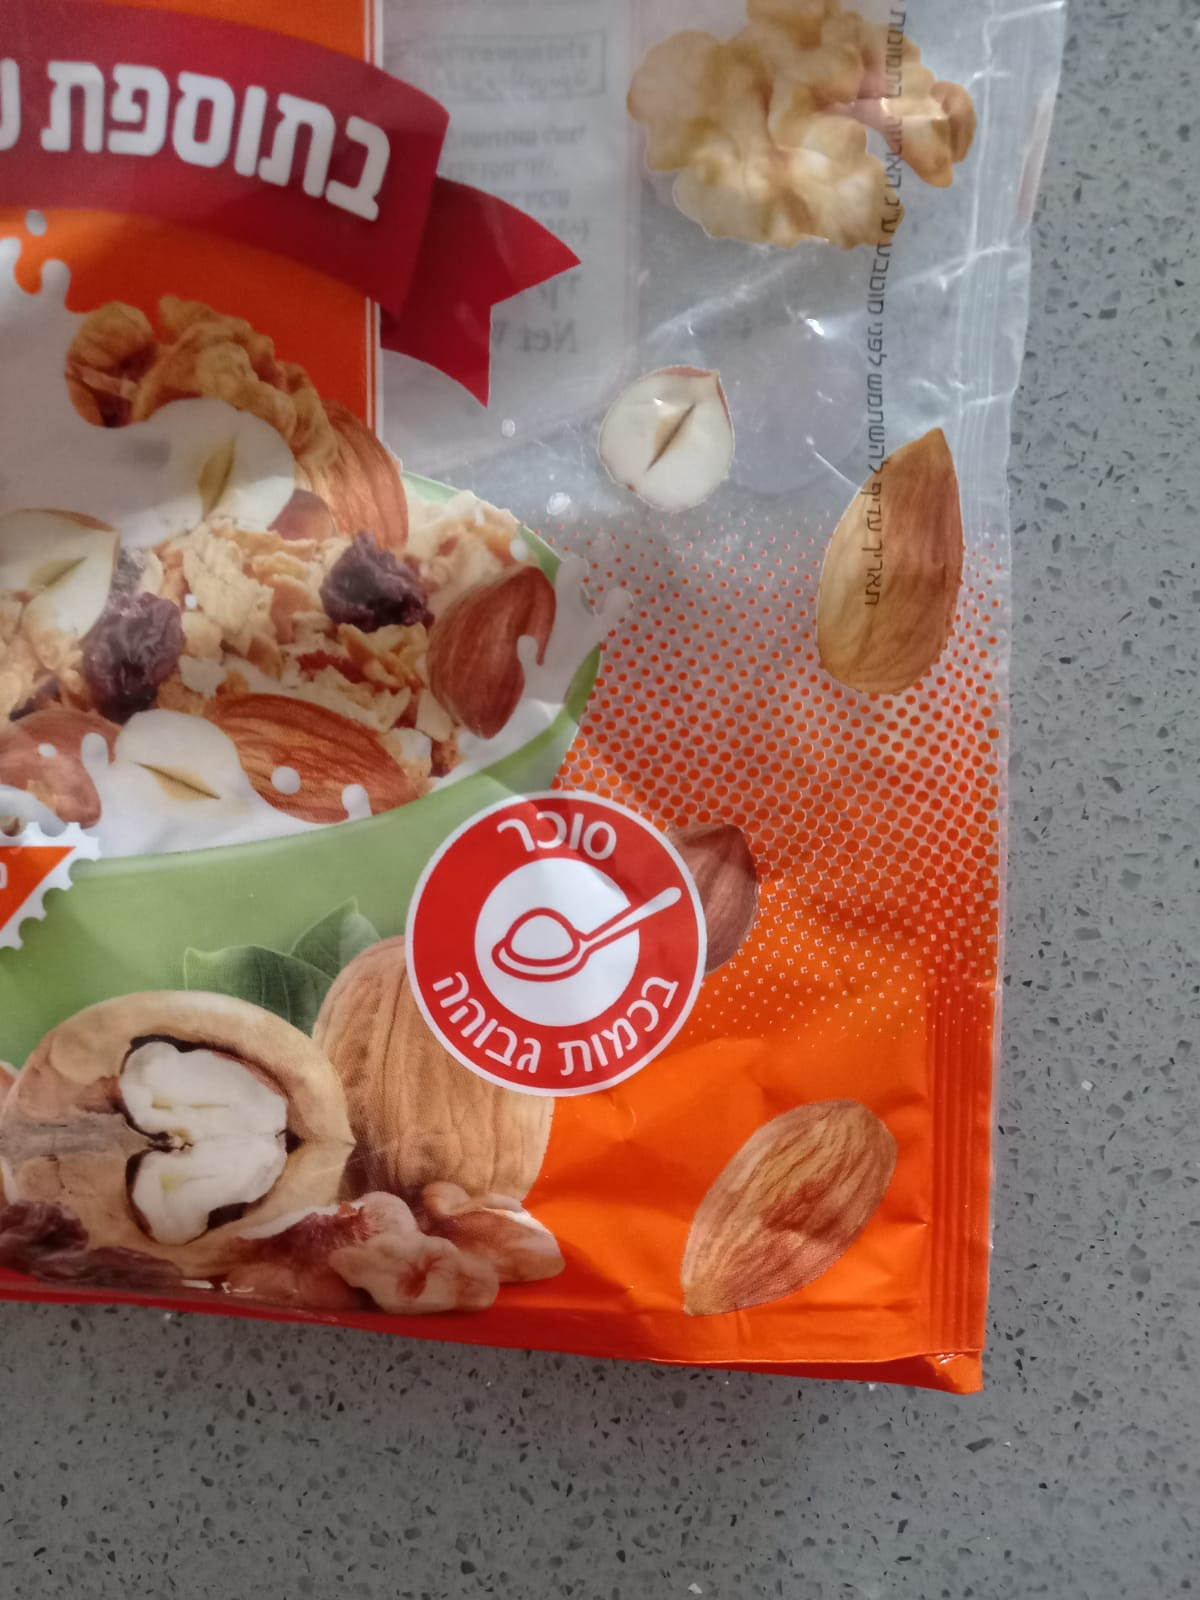sugar: (407, 790, 708, 1096)
